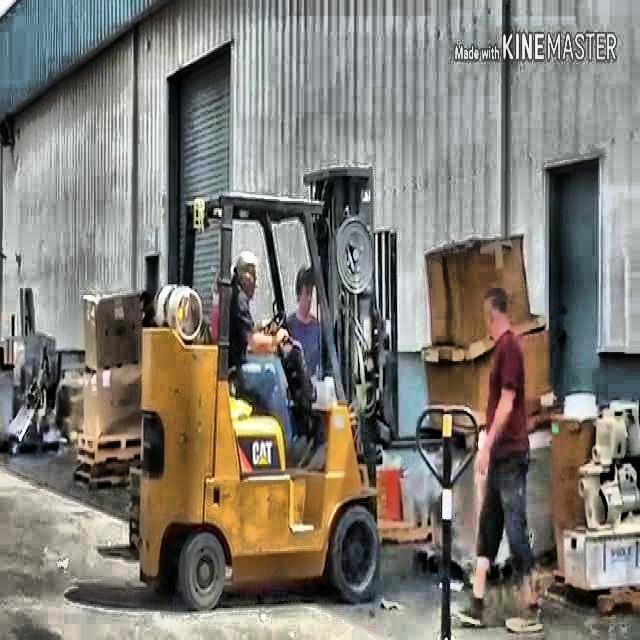bull_dozer/loader/grader: (130, 146, 401, 604)
person: (453, 279, 545, 638)
